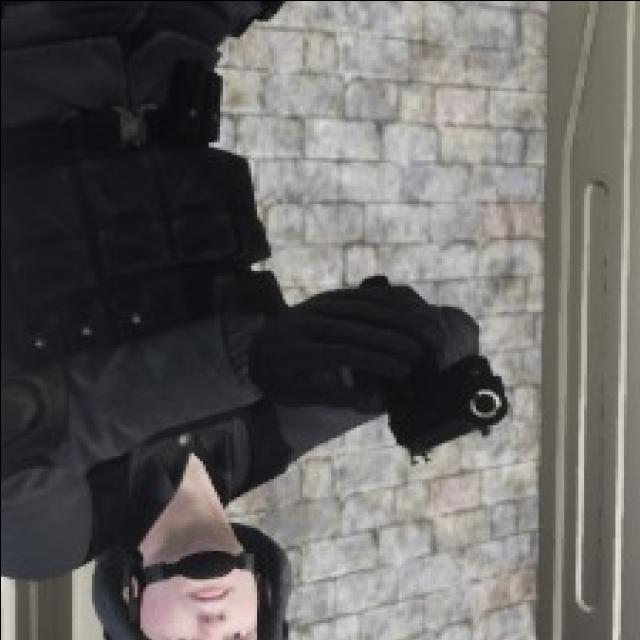pistol: (386, 319, 510, 465)
